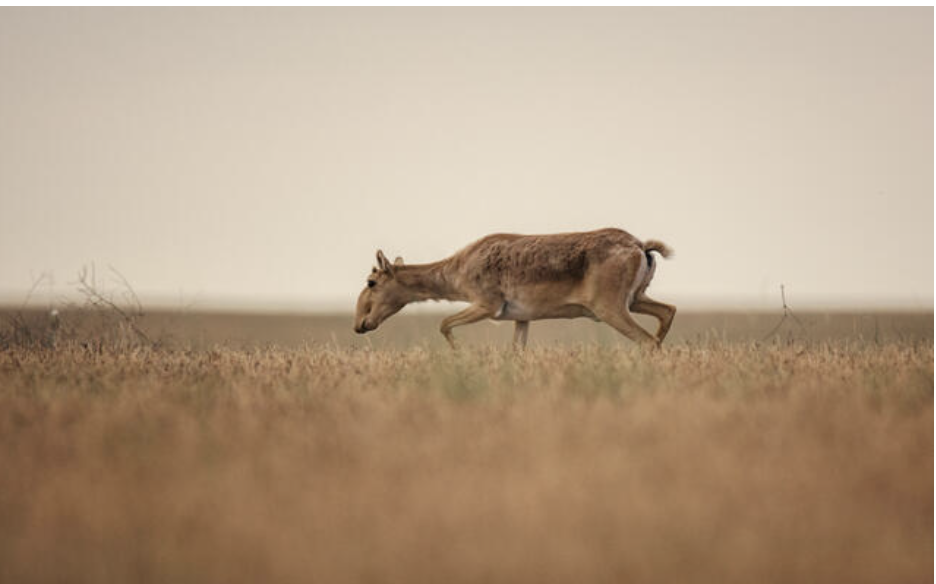saiga: (346, 209, 670, 355)
